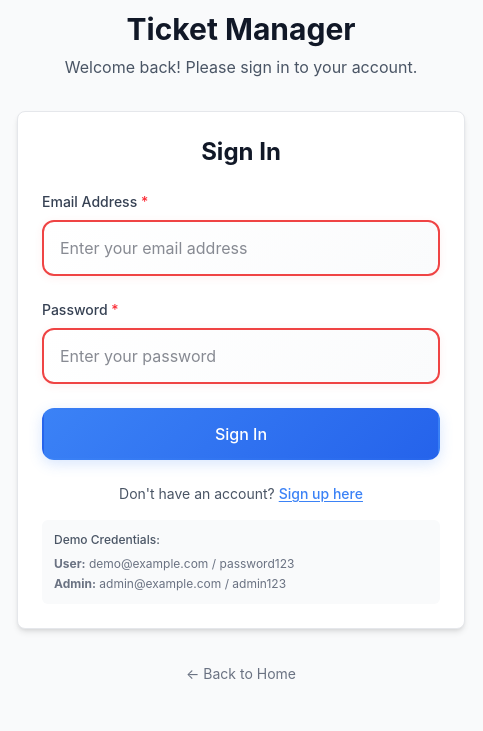
Test: Authentication Flow Integration › Login Flow › handles login failure gracefully
Note: Fill in login form with invalid credentials
In the field labelled "Email Address *": (241, 248) left=42, top=220, right=440, bottom=276, type "invalid@example.com"
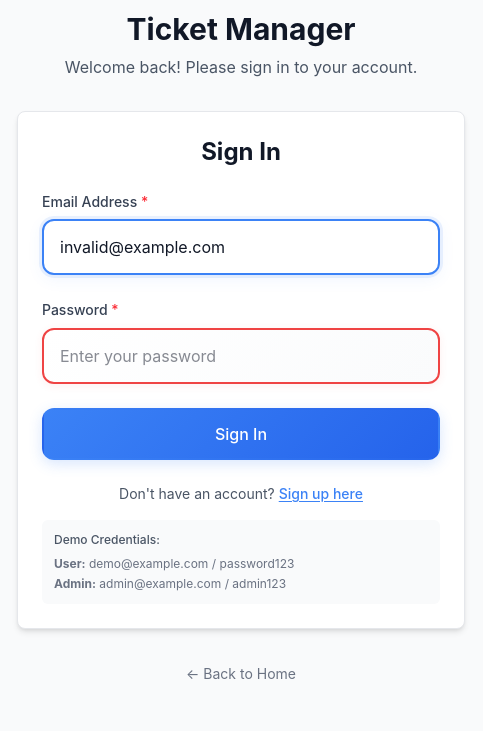
In the password field labelled "Password *": (241, 356) left=42, top=328, right=440, bottom=384, type "wrongpassword"
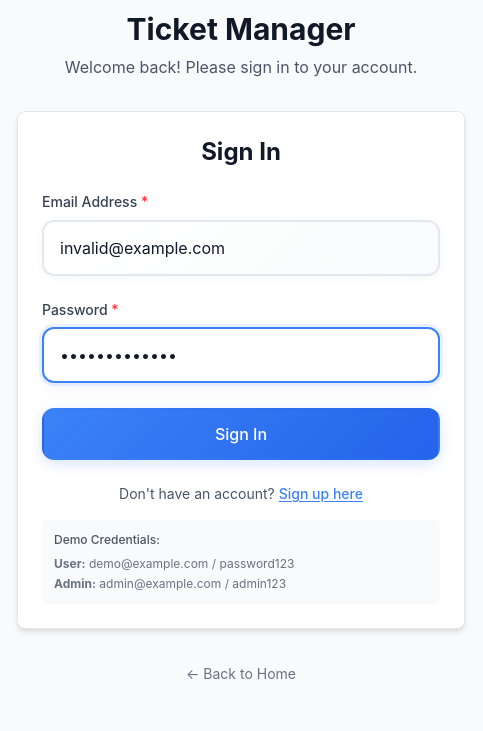
Note: Submit form
Click the button "Sign In": (241, 434) left=42, top=408, right=440, bottom=460
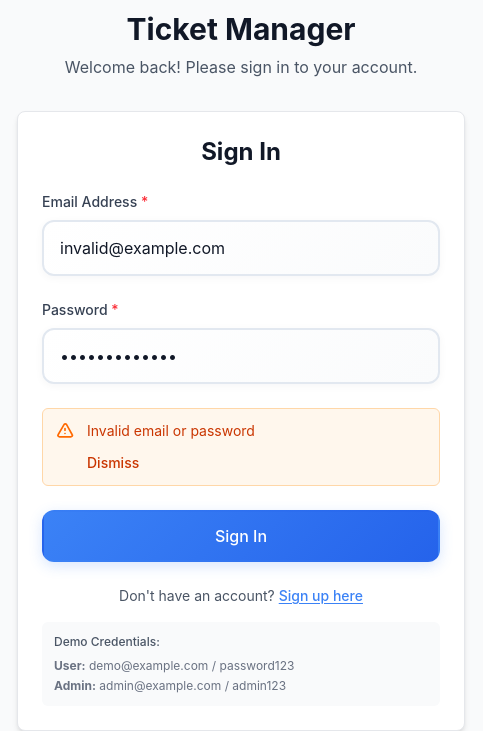
Expected: the text "Invalid email or password" is shown, left=87, top=422, right=255, bottom=439
